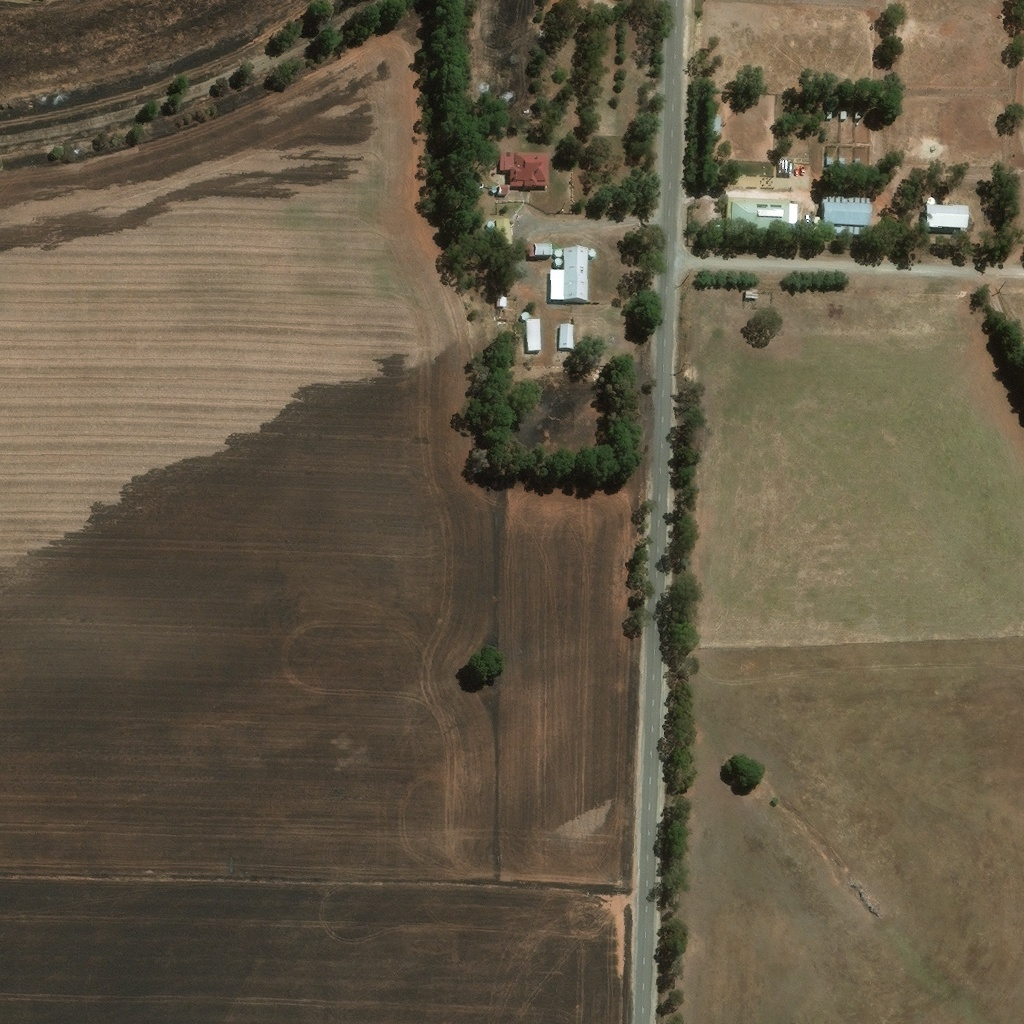0 no-damage: (726, 192, 799, 230), (551, 244, 598, 297), (814, 190, 872, 230), (500, 148, 550, 184), (926, 192, 970, 224), (520, 308, 542, 348), (487, 215, 513, 243), (560, 320, 575, 344), (534, 240, 552, 253), (553, 244, 564, 263), (710, 112, 723, 127), (490, 181, 509, 191), (746, 284, 760, 293), (497, 293, 507, 304), (856, 105, 867, 113), (827, 104, 834, 113), (856, 151, 863, 159), (840, 151, 846, 159), (842, 105, 847, 114), (819, 135, 825, 142), (828, 152, 833, 159)
